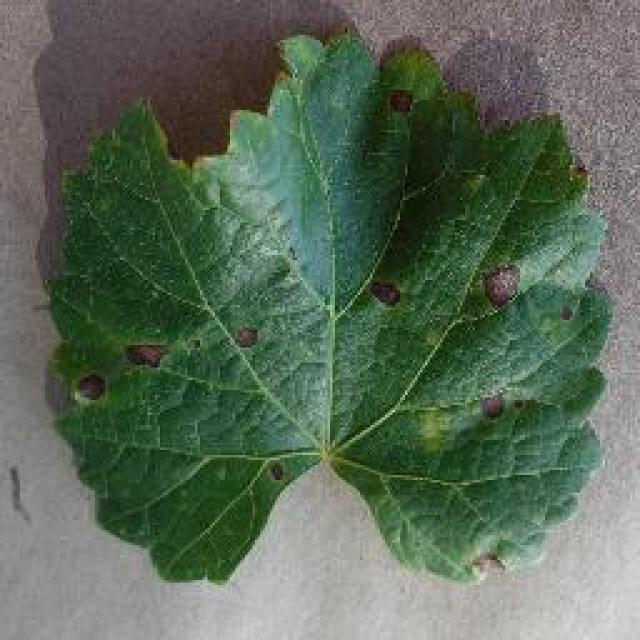Black_rot: (38, 14, 612, 612)
